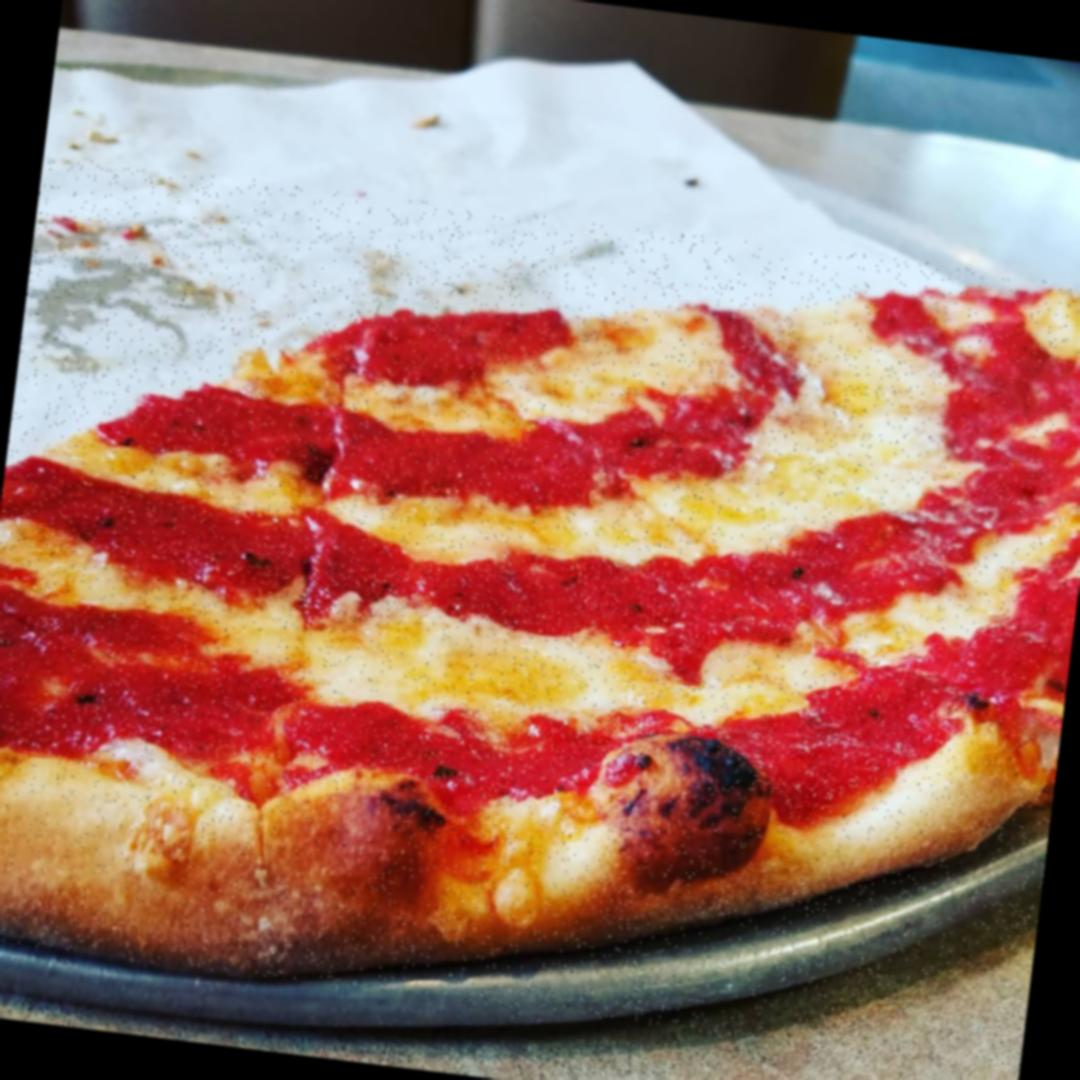Pizza: (0, 153, 1080, 1070)
